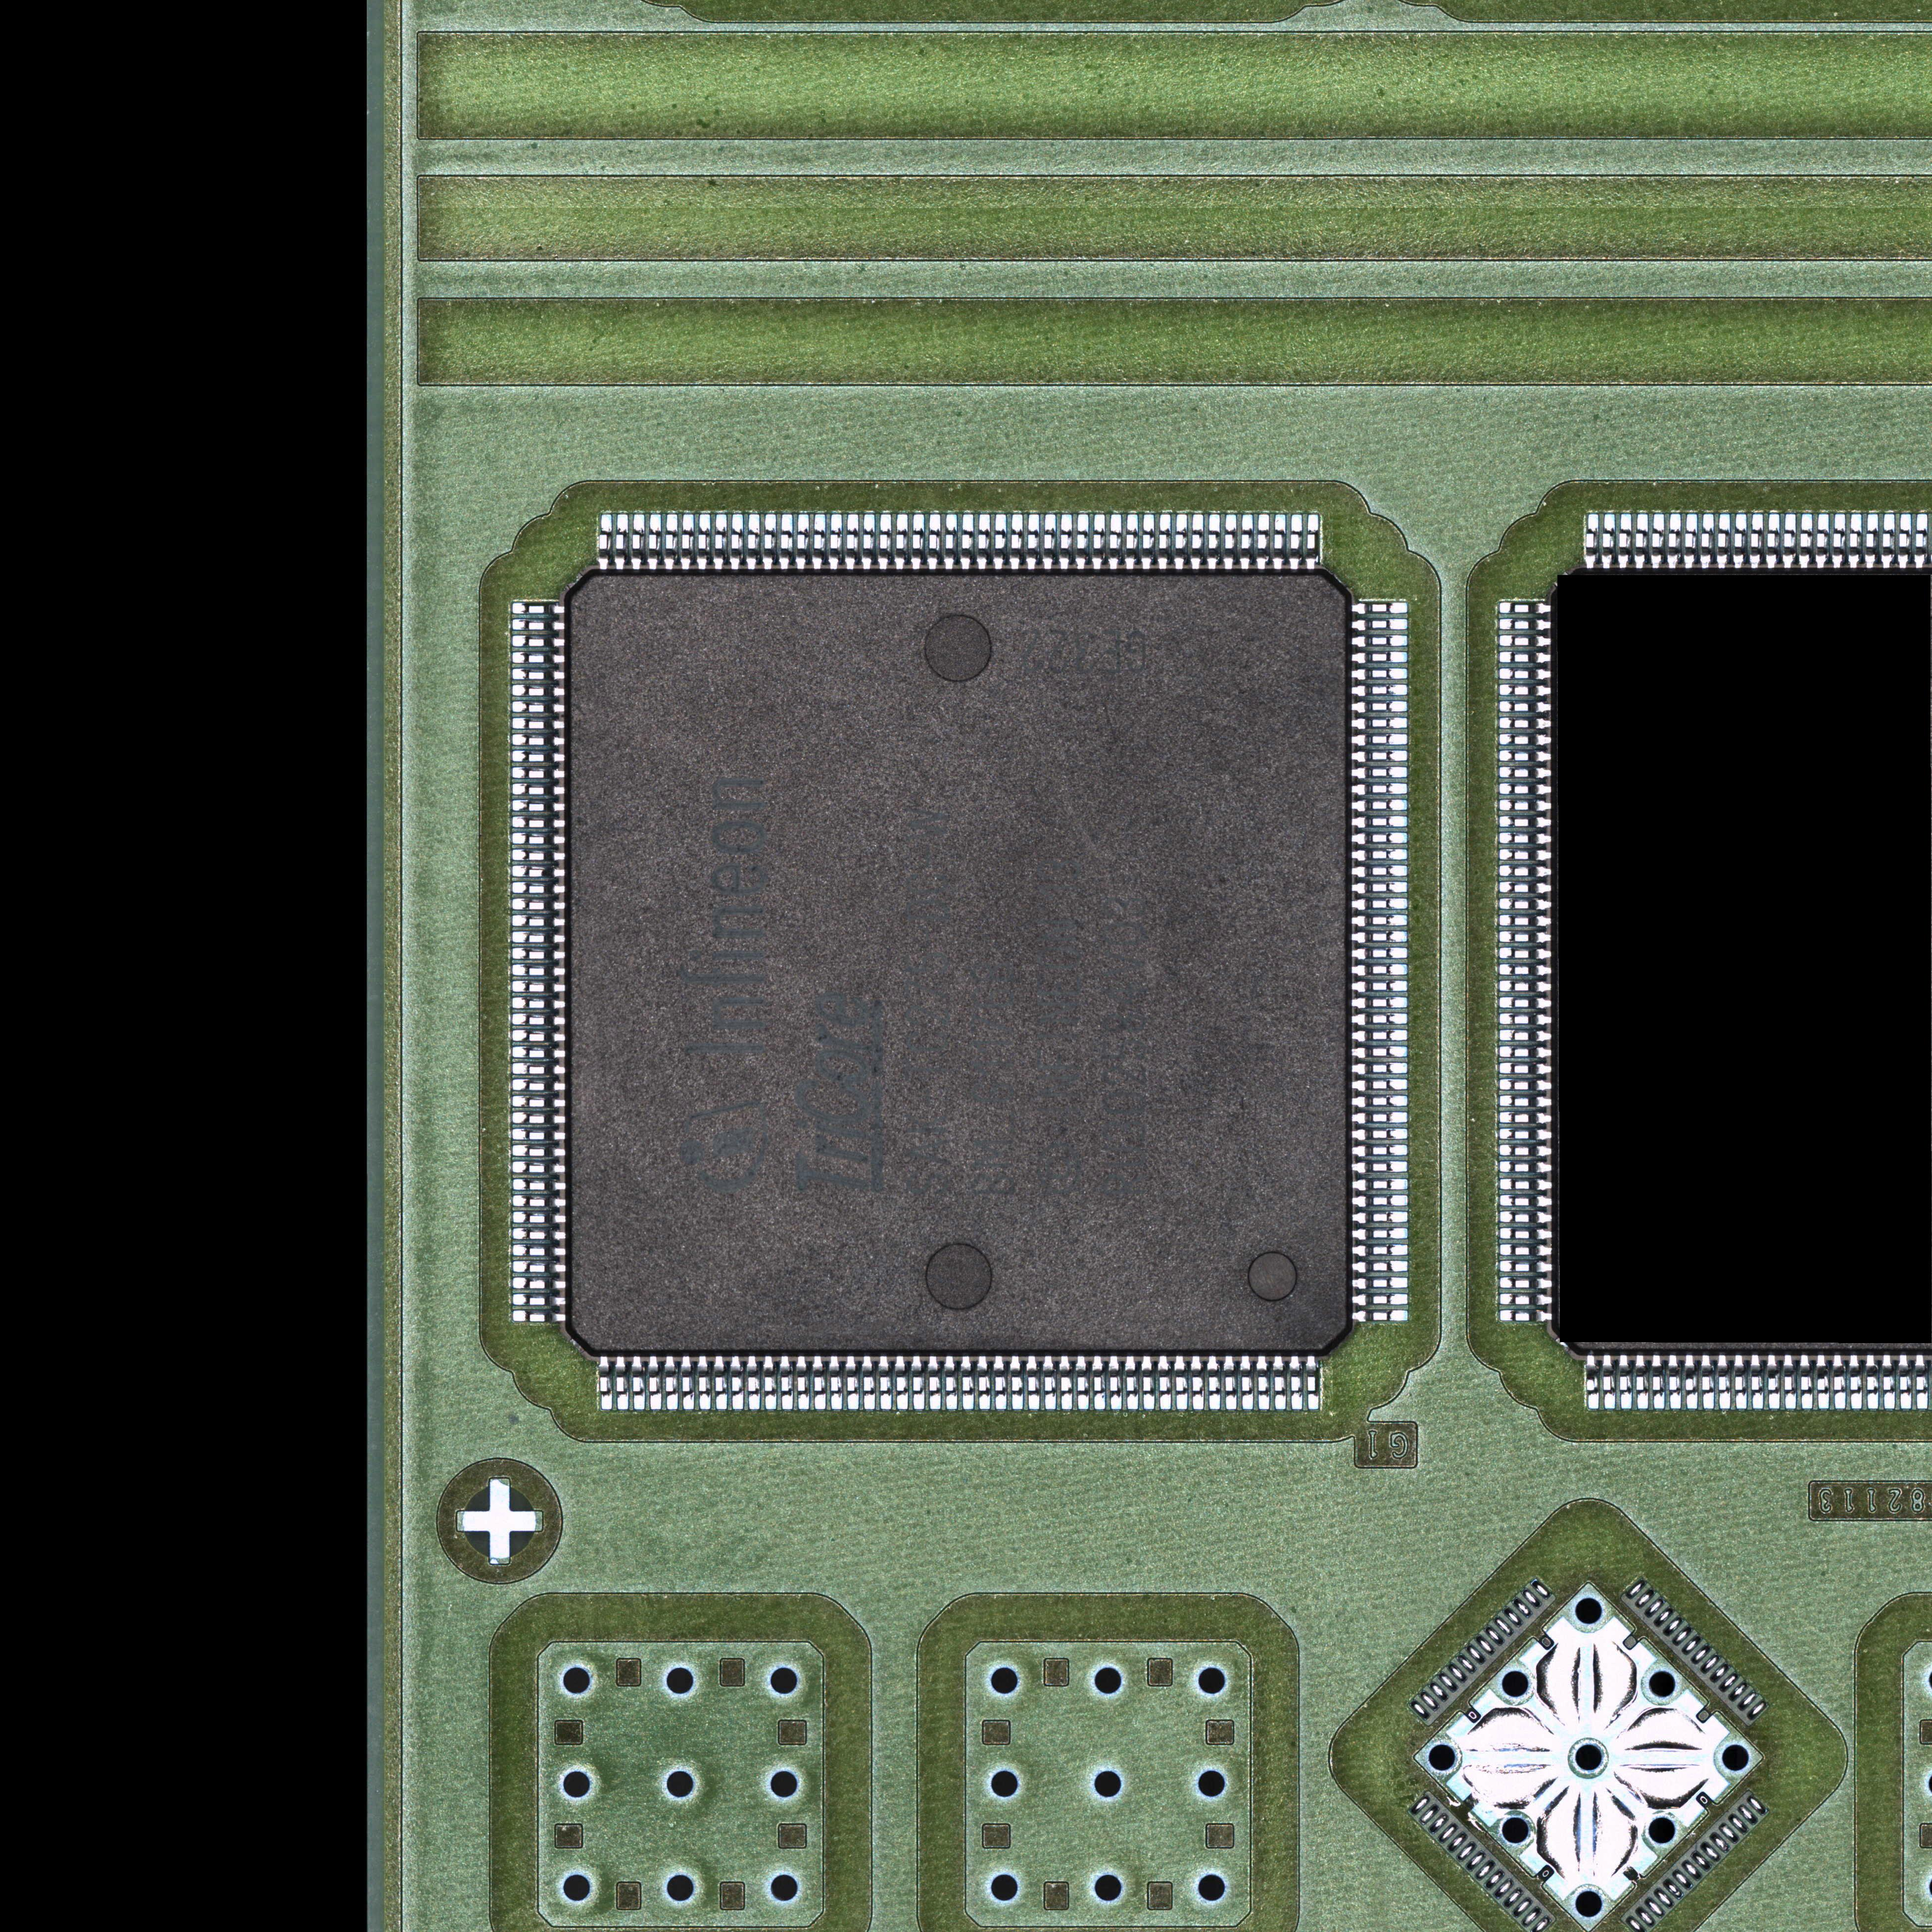Package: (568, 574, 1348, 1351)
Solder: (1584, 1355, 1600, 1410), (1351, 601, 1410, 616), (1493, 601, 1552, 616), (1493, 617, 1551, 632), (1287, 514, 1303, 571), (861, 513, 876, 571), (1024, 513, 1040, 571), (761, 1355, 777, 1410), (1716, 513, 1732, 569), (1351, 618, 1409, 632), (1493, 716, 1551, 731), (1493, 667, 1551, 681), (992, 513, 1008, 570), (1059, 513, 1074, 570), (1024, 1355, 1040, 1410), (1172, 1355, 1188, 1410), (1287, 1356, 1303, 1411), (1699, 514, 1715, 569), (1765, 513, 1781, 568), (1798, 513, 1814, 568), (1815, 513, 1831, 568), (1848, 513, 1864, 568), (1864, 513, 1880, 568), (1881, 513, 1897, 568), (1897, 513, 1913, 568), (1351, 717, 1409, 731), (1351, 667, 1409, 681), (1493, 650, 1551, 665), (1493, 864, 1551, 879), (614, 514, 629, 570), (646, 514, 661, 570), (812, 513, 827, 570), (1041, 513, 1057, 570), (1173, 513, 1188, 570), (1255, 514, 1270, 570), (1305, 513, 1320, 570), (614, 1355, 629, 1412), (1123, 1356, 1139, 1411), (1584, 513, 1600, 568), (1634, 514, 1650, 568), (1351, 782, 1408, 797), (1351, 865, 1409, 879), (598, 513, 613, 569), (680, 514, 695, 570), (712, 514, 727, 570), (762, 514, 777, 570), (844, 514, 859, 570), (1074, 514, 1090, 570), (1107, 514, 1122, 570), (1222, 514, 1237, 570), (597, 1355, 613, 1411), (646, 1356, 662, 1412), (1041, 1355, 1057, 1411), (910, 514, 925, 571), (927, 513, 942, 571), (1351, 930, 1408, 945), (1352, 996, 1409, 1011), (1493, 732, 1550, 747), (1493, 798, 1550, 813), (1493, 930, 1550, 945), (1495, 1111, 1552, 1125), (1140, 514, 1156, 569), (696, 1355, 711, 1411), (1091, 1355, 1106, 1411), (1304, 1355, 1320, 1411), (1749, 513, 1765, 569), (1351, 700, 1409, 715), (1493, 700, 1552, 715), (959, 514, 974, 571), (1351, 749, 1408, 764), (1493, 749, 1550, 764), (1239, 514, 1255, 569), (1271, 514, 1287, 569), (679, 1356, 695, 1411), (712, 1356, 727, 1411), (827, 1355, 843, 1410), (860, 1355, 875, 1410), (910, 1355, 925, 1410), (943, 1356, 958, 1411), (960, 1356, 975, 1411), (1222, 1355, 1237, 1410), (1618, 513, 1633, 568), (1683, 513, 1698, 568), (1733, 513, 1748, 568), (1782, 513, 1797, 568), (1831, 513, 1846, 568), (1914, 513, 1930, 568), (1815, 1354, 1831, 1409), (1351, 651, 1409, 665), (630, 514, 645, 570), (746, 513, 761, 570), (828, 514, 843, 570), (1206, 513, 1221, 570), (844, 1356, 859, 1410), (877, 1355, 892, 1410), (893, 1355, 909, 1410), (926, 1355, 941, 1410), (1140, 1355, 1155, 1410), (1601, 514, 1616, 568), (1650, 1355, 1666, 1409), (1716, 1354, 1732, 1409), (1733, 1354, 1748, 1409), (1864, 1354, 1880, 1409), (1351, 848, 1408, 863), (1493, 766, 1551, 780), (1494, 996, 1551, 1011), (943, 514, 958, 570), (1009, 514, 1023, 570), (1123, 514, 1138, 570), (1206, 1355, 1221, 1411), (894, 513, 908, 571), (1351, 767, 1408, 781), (1351, 799, 1408, 813), (1351, 815, 1408, 829), (1351, 832, 1408, 846), (1351, 881, 1408, 895), (1351, 914, 1408, 928), (1351, 898, 1408, 912), (1351, 980, 1408, 994), (1351, 947, 1408, 961), (1351, 964, 1408, 978), (1351, 1111, 1408, 1125), (1352, 1062, 1409, 1076), (1493, 782, 1550, 797), (1493, 880, 1550, 895), (1493, 914, 1550, 928), (1493, 979, 1550, 994), (1493, 946, 1550, 961), (1494, 1062, 1551, 1076), (1495, 1242, 1552, 1256), (664, 1355, 678, 1411), (1008, 1355, 1023, 1410), (1157, 1355, 1171, 1411), (1667, 513, 1682, 568), (1351, 733, 1408, 747), (1352, 1013, 1408, 1027), (1352, 1243, 1408, 1257), (1494, 831, 1550, 846), (1495, 1013, 1551, 1027), (1351, 683, 1409, 697), (1493, 683, 1551, 697), (976, 1355, 991, 1410), (1074, 1355, 1089, 1410), (1107, 1356, 1122, 1411), (1255, 1355, 1270, 1410), (1601, 1355, 1616, 1410), (1618, 1355, 1633, 1410), (1667, 1354, 1682, 1409), (1700, 1354, 1715, 1409), (1783, 1355, 1797, 1410), (1799, 1355, 1814, 1410), (1848, 1354, 1863, 1409), (1832, 1354, 1847, 1409), (1881, 1354, 1896, 1409), (1914, 1354, 1929, 1409), (664, 514, 678, 570), (696, 514, 711, 570), (1091, 513, 1106, 570), (745, 1356, 760, 1410), (992, 1356, 1007, 1410), (1058, 1356, 1073, 1410), (1239, 1356, 1254, 1410), (1635, 1355, 1649, 1409), (1684, 1354, 1699, 1409), (1750, 1354, 1765, 1409), (1766, 1355, 1781, 1409), (1897, 1354, 1912, 1409), (729, 514, 744, 570), (796, 514, 810, 570), (976, 514, 991, 570), (630, 1356, 645, 1412), (1494, 1029, 1551, 1043), (877, 514, 891, 572), (779, 1355, 793, 1410), (1351, 1046, 1408, 1060), (1352, 1029, 1409, 1043), (1351, 1128, 1408, 1142), (1351, 1144, 1408, 1158), (1352, 1194, 1409, 1208), (1352, 1276, 1409, 1290), (1493, 848, 1550, 862), (1493, 815, 1550, 829), (1494, 898, 1551, 912), (1495, 1078, 1552, 1092), (1496, 1127, 1553, 1141), (1495, 1144, 1552, 1158), (1495, 1309, 1552, 1323), (1495, 1276, 1552, 1290), (1651, 513, 1665, 568), (1352, 1078, 1408, 1092), (1352, 1095, 1408, 1109), (1351, 1160, 1408, 1174), (1352, 1227, 1408, 1241), (1494, 964, 1550, 977), (1495, 1045, 1551, 1059), (1495, 1094, 1552, 1108), (729, 1355, 744, 1410), (1351, 634, 1409, 648), (1496, 1160, 1552, 1174), (812, 1356, 826, 1410), (1272, 1356, 1286, 1410), (511, 601, 565, 615), (511, 634, 565, 649), (511, 667, 565, 681), (511, 700, 565, 715), (511, 782, 565, 797), (512, 767, 566, 781), (511, 848, 565, 863), (512, 864, 566, 878), (512, 881, 566, 895), (511, 914, 565, 928), (512, 898, 566, 912), (511, 980, 565, 994), (512, 930, 566, 944), (512, 964, 566, 978), (512, 996, 566, 1011), (512, 1013, 566, 1027), (512, 1030, 566, 1044), (512, 1111, 566, 1125), (512, 1062, 566, 1076), (512, 1078, 566, 1093), (512, 1095, 566, 1109), (512, 1128, 566, 1142), (512, 1160, 566, 1175), (512, 1144, 566, 1159), (512, 1178, 566, 1192), (512, 1194, 566, 1208), (512, 1309, 566, 1323), (512, 1293, 566, 1307), (512, 1276, 566, 1291), (512, 1243, 566, 1257), (1495, 1194, 1552, 1207), (1190, 1355, 1204, 1411), (512, 733, 565, 747), (512, 749, 565, 764), (512, 799, 565, 813), (512, 815, 565, 829), (512, 1227, 566, 1241), (512, 1211, 566, 1225), (1352, 1211, 1409, 1224), (1352, 1309, 1409, 1323), (1495, 1210, 1552, 1224), (796, 1355, 810, 1410), (1352, 1178, 1409, 1191), (1352, 1260, 1409, 1274), (1495, 1227, 1552, 1240), (1496, 1178, 1552, 1191), (1496, 1259, 1552, 1273), (779, 513, 793, 570), (1191, 514, 1204, 570), (1493, 634, 1551, 647), (511, 618, 565, 631), (511, 683, 565, 697), (512, 832, 566, 846), (512, 947, 566, 961), (512, 1046, 566, 1060), (513, 1260, 567, 1274), (511, 651, 565, 665), (511, 717, 565, 730), (1352, 1293, 1408, 1306), (1495, 1293, 1552, 1306), (1157, 513, 1170, 570)
